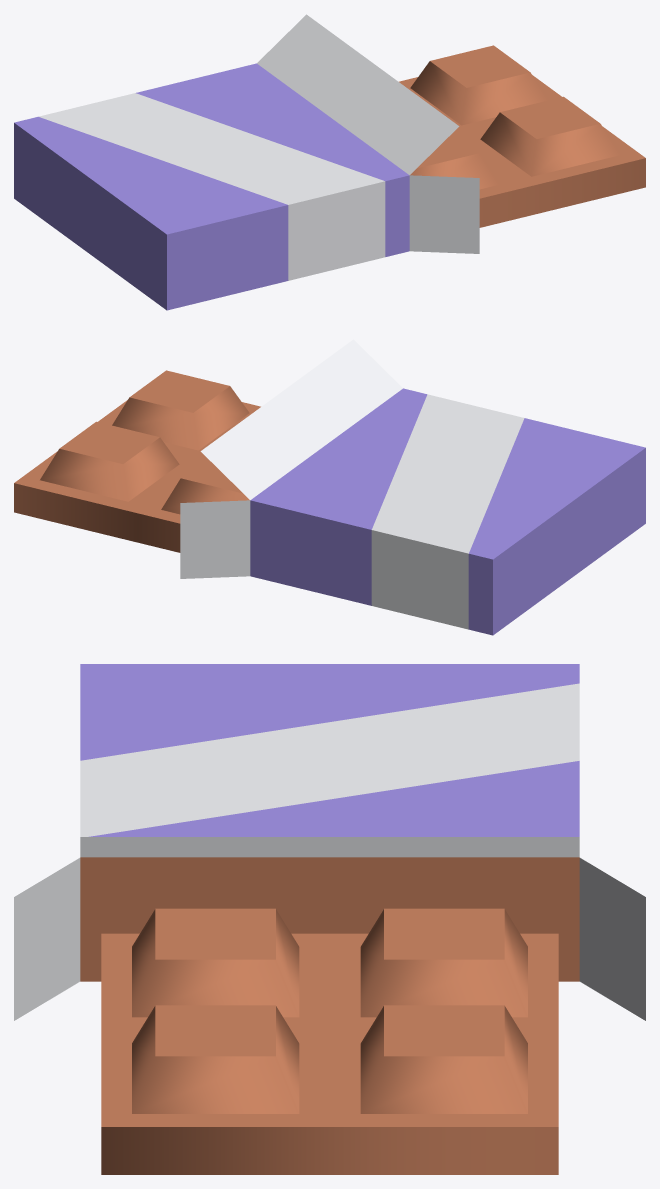
The model's file is Chocolate Wrapper.glb.
3 views of the same model, one above another, from view 1: azimuth 30°, elevation 25°; view 2: azimuth 150°, elevation 25°; view 3: azimuth 270°, elevation 25° (orthographic). The views are drawn at different scales.
Parts seen in each view (by area): view 1: chocolateWrapper; view 2: chocolateWrapper; view 3: chocolateWrapper.
Boxes of the visible parts, bbox=[...] form: chocolateWrapper: bbox=[14, 14, 645, 310]; chocolateWrapper: bbox=[14, 339, 645, 635]; chocolateWrapper: bbox=[14, 664, 645, 1174].
Bounding box in the file's own units: 0.2924 × 0.0649 × 0.202.
